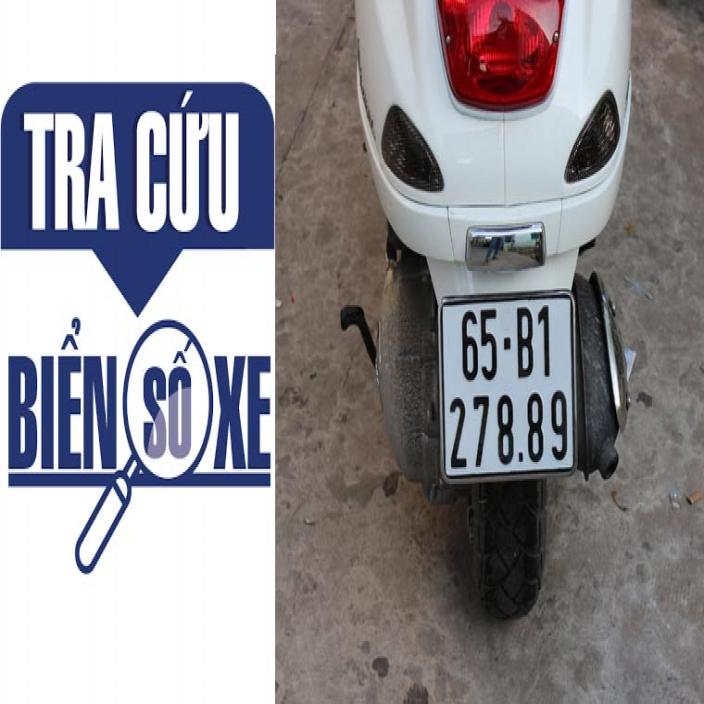numplate: (434, 285, 584, 480)
